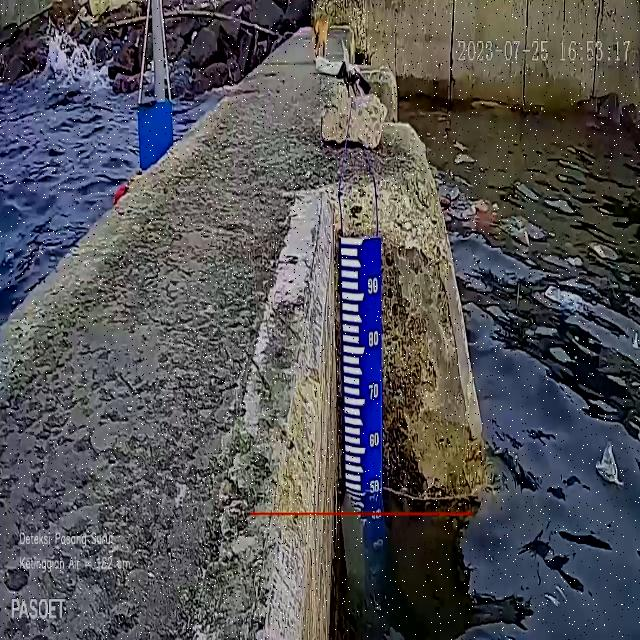50: (370, 478, 380, 494)
60: (369, 431, 380, 448)
70: (368, 382, 380, 400)
80: (368, 329, 380, 350)
90: (368, 276, 378, 294)
staff: (340, 235, 382, 495)
